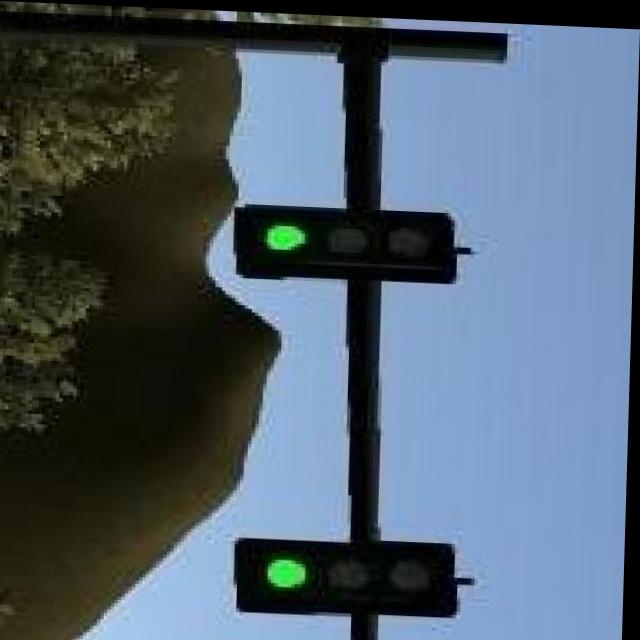green light: (236, 531, 465, 617), (234, 200, 460, 282)
